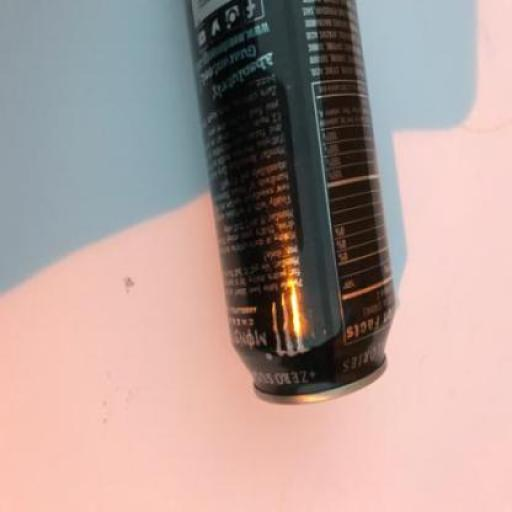metal: (184, 1, 398, 405)
